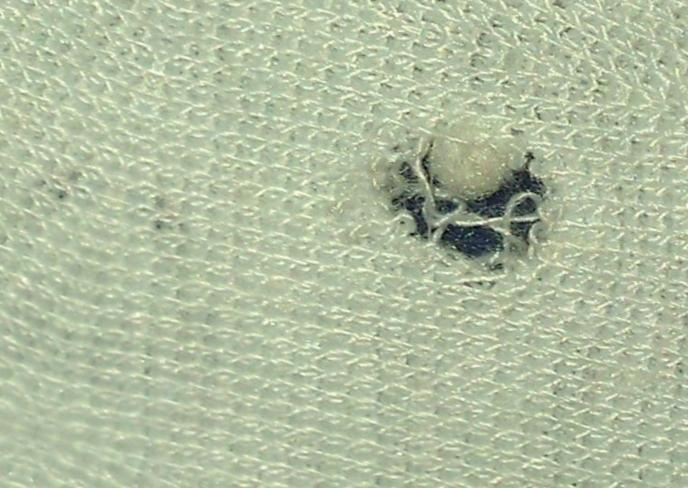hole: (413, 124, 535, 209)
